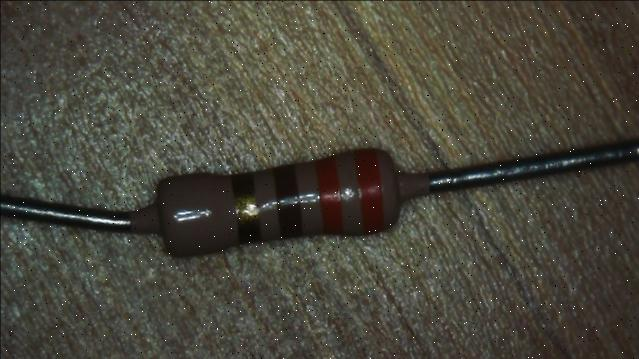brown: (277, 165, 299, 240)
gold: (236, 176, 258, 240)
orange: (358, 149, 382, 228), (316, 160, 341, 233)
resistor: (116, 141, 436, 266)
